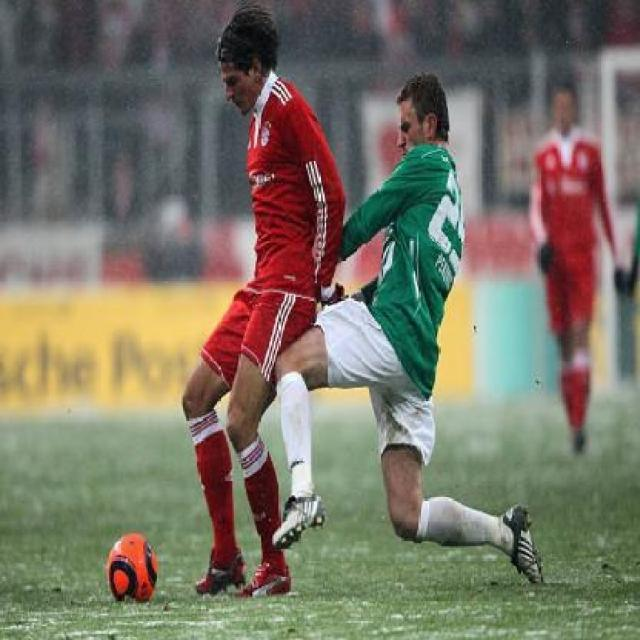ball: (102, 525, 161, 610)
player: (284, 67, 550, 596), (182, 2, 335, 605), (529, 77, 606, 468)
